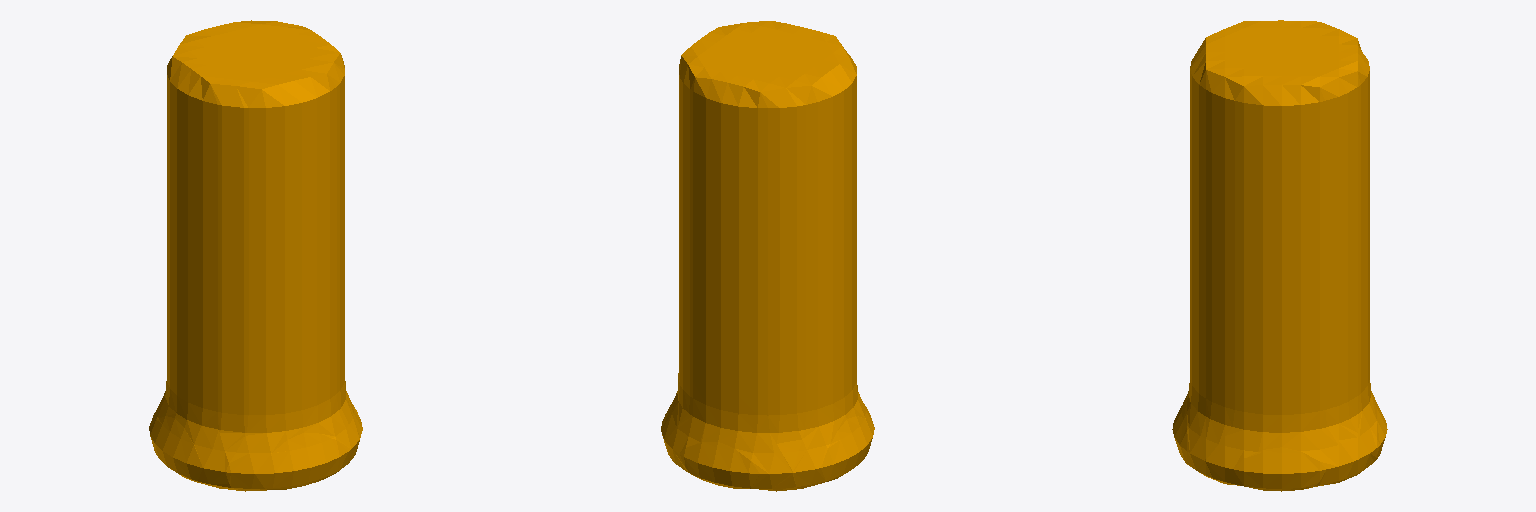
The robot description file, URDF, robot "cylinder_../../meshes/cylinders/cylinder_54.stl":
<?xml version="1.0" encoding="utf-8"?>  <robot name="cylinder_../../meshes/cylinders/cylinder_54.stl">   <link name="cylinder_../../meshes/cylinders/cylinder_54.stl">     <visual>       <geometry>         <mesh filename="../meshes/cylinders/cylinder_54.stl" scale="1 1 1"/>       </geometry>     </visual>     <collision>       <geometry>         <mesh filename="../meshes/cylinders/cylinder_54.stl" scale="1 1 1"/>       </geometry>     </collision>     <inertial>        <origin         xyz="0 0 0"         rpy="0 0 0" />       <mass value="0.21083084151214398"/>       <origin rpy="0 0 0" xyz="0 0 0"/>       <inertia ixx="0.00027527839919177393" ixy="-1.4357109710928296e-09" ixz="-6.518260191040801e-08" iyy="0.00027527796332390777" iyz="-6.90336045515813e-08" izz="6.195966053211644e-05"/>     </inertial>   </link>  </robot>

--- What the picture shows (computed from the rendered views, not written in the file) ---
3 views of the same robot in one strip: view 1: azimuth 30°, elevation 25°; view 2: azimuth 150°, elevation 25°; view 3: azimuth 270°, elevation 25° (orthographic).
Model cylinder_../../meshes/cylinders/cylinder_54.stl with 1 links and 0 joints (none), rooted at cylinder_../../meshes/cylinders/cylinder_54.stl, posed every joint at zero.
Links seen in each view (by area): view 1: cylinder_../../meshes/cylinders/cylinder_54.stl; view 2: cylinder_../../meshes/cylinders/cylinder_54.stl; view 3: cylinder_../../meshes/cylinders/cylinder_54.stl.
Boxes of the visible links, x1=… form: cylinder_../../meshes/cylinders/cylinder_54.stl: x1=149, y1=20, x2=362, y2=491; cylinder_../../meshes/cylinders/cylinder_54.stl: x1=661, y1=21, x2=874, y2=491; cylinder_../../meshes/cylinders/cylinder_54.stl: x1=1172, y1=20, x2=1387, y2=491.
Size in the robot's own frame: 0.0568 by 0.0568 by 0.117 metres.
1 mesh visuals loaded from 1 distinct referenced files (1 binary STL).